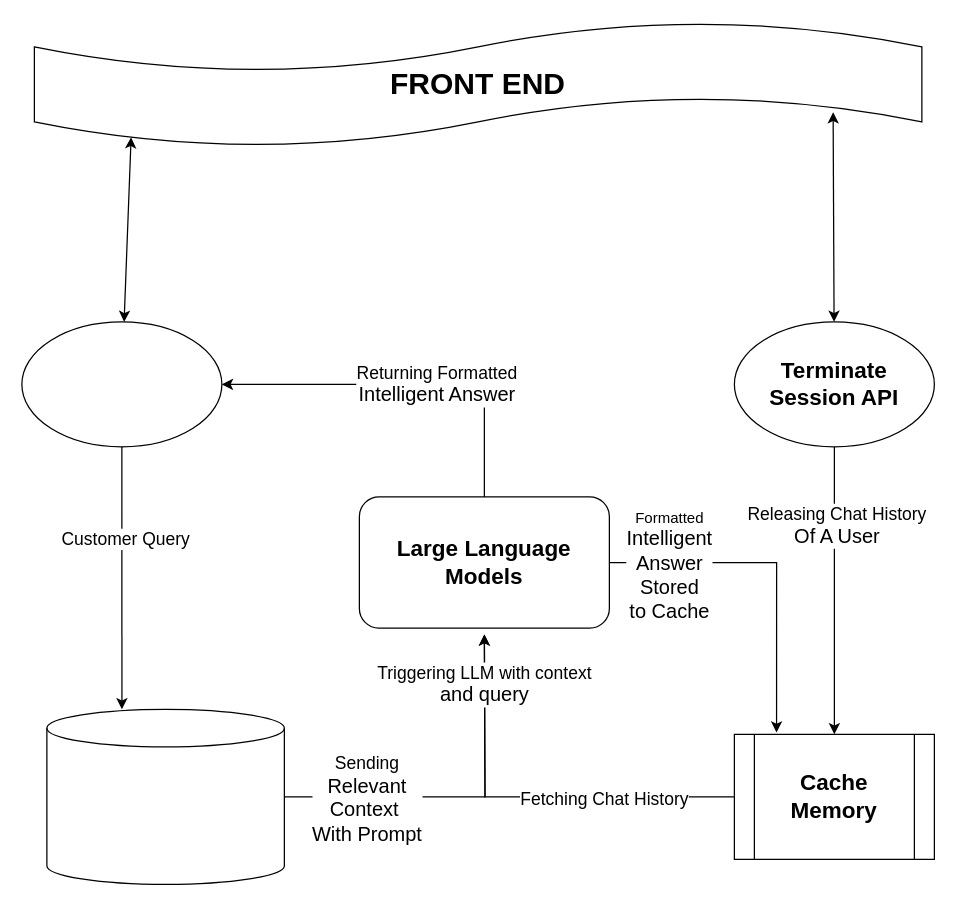
Some shapes in this 956 by 906 pixel diagram are drawn without their labels. Here are the shapes that lost their labels. From the top down, the centre of each, then its label:
pixel 121 384: Q&A API
pixel 165 796: Vector Database Chroma DB
